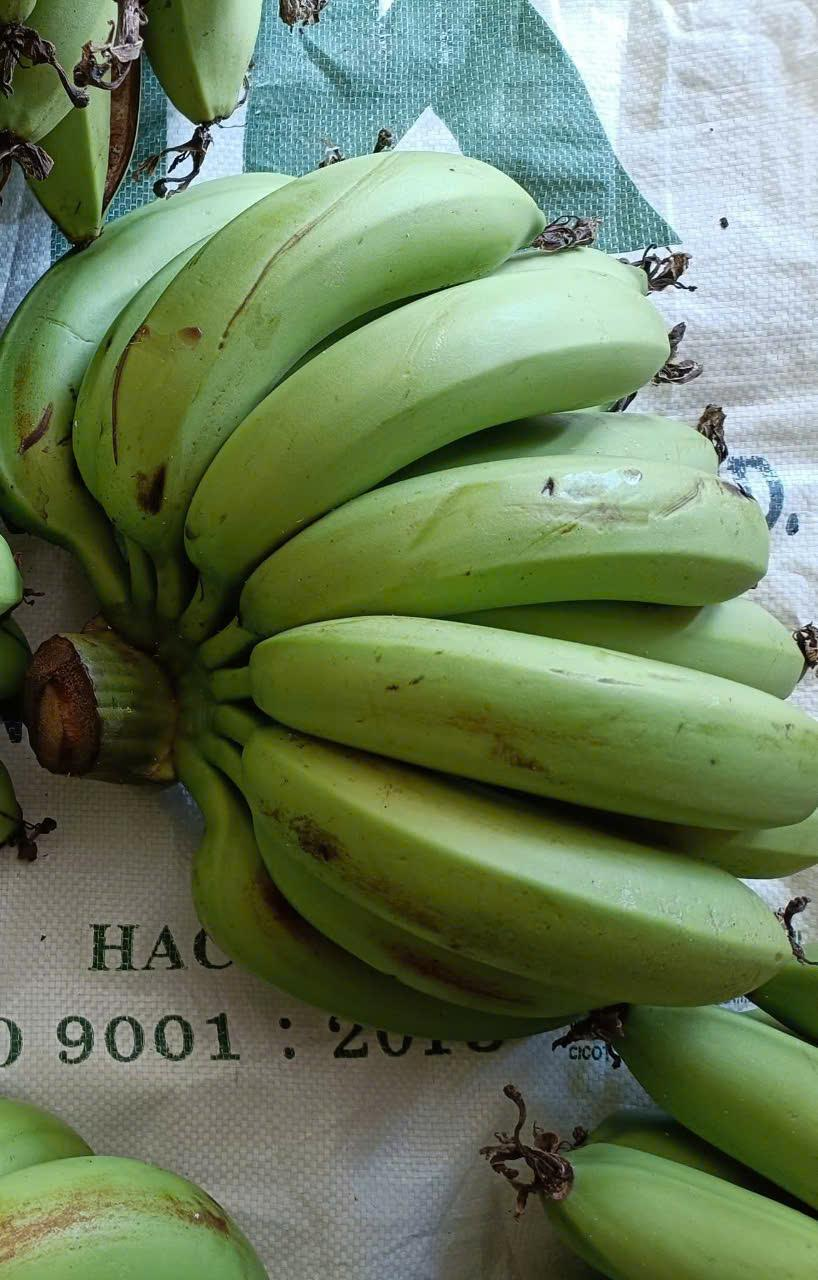banana: (0, 167, 808, 605), (7, 627, 818, 1033)
